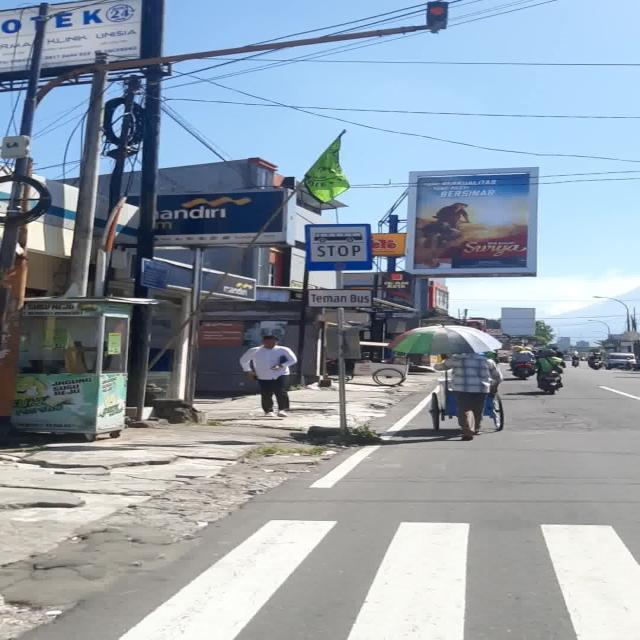Pemberhentian Bus: (304, 224, 372, 272)
